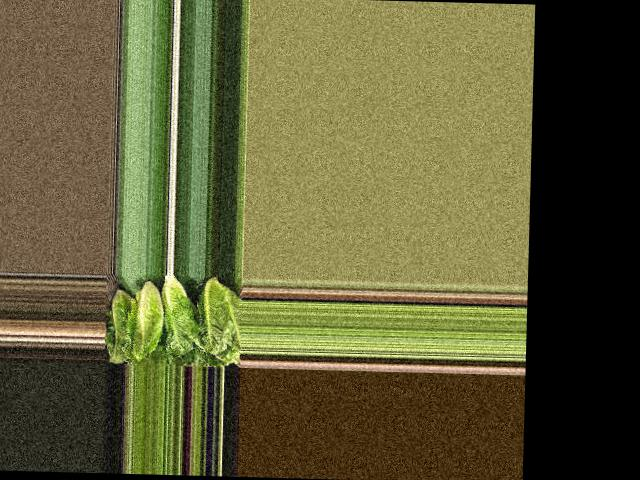lettuce: (110, 291, 133, 364)
